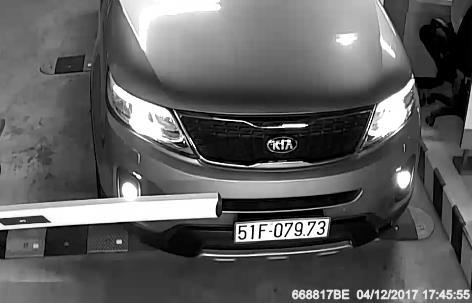License-plate: (223, 206, 338, 259)
